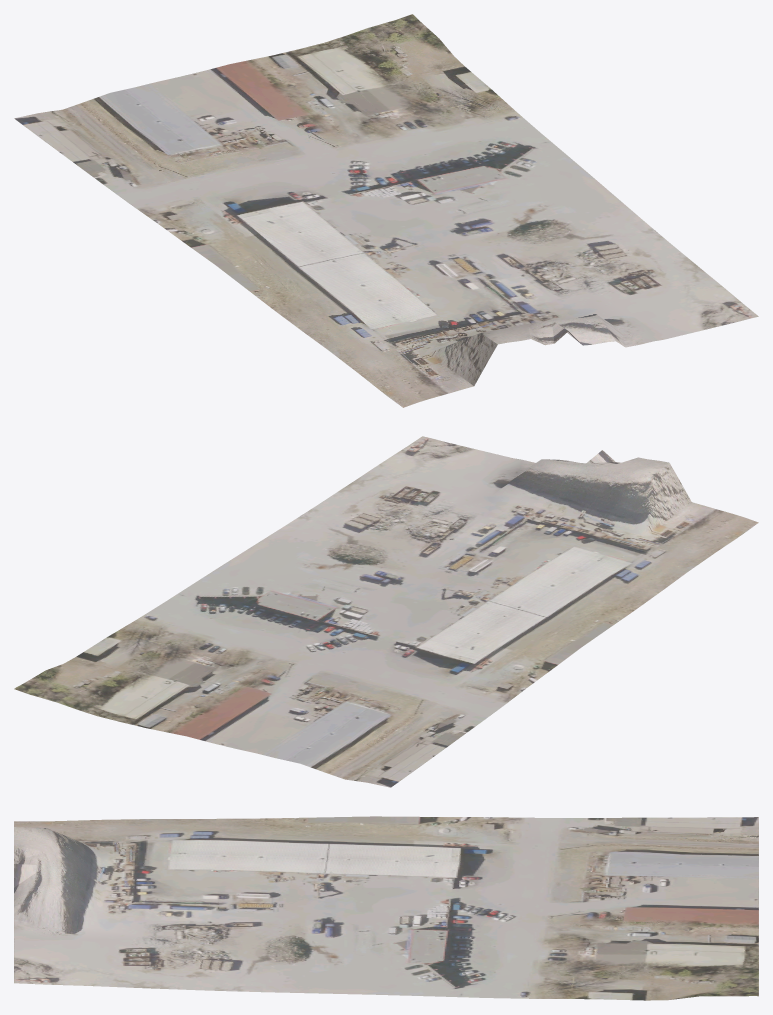
File: CM_Terrain_24493940_6815288.fbx
3 renders of one model, top to bottom at view 1: azimuth 30°, elevation 25°; view 2: azimuth 150°, elevation 25°; view 3: azimuth 270°, elevation 25°, orthographic. The views are drawn at different scales.
Visible parts, largest first — view 1: CM_Terrain_24493940_6815288_LOD0; view 2: CM_Terrain_24493940_6815288_LOD0; view 3: CM_Terrain_24493940_6815288_LOD0.
Boxes of the visible parts, <box> form: CM_Terrain_24493940_6815288_LOD0: <box>14,14,758,407</box>; CM_Terrain_24493940_6815288_LOD0: <box>14,436,758,787</box>; CM_Terrain_24493940_6815288_LOD0: <box>14,816,758,1000</box>.
Size of what is drawn, in the model's own units: 121 by 11.7 by 205.
